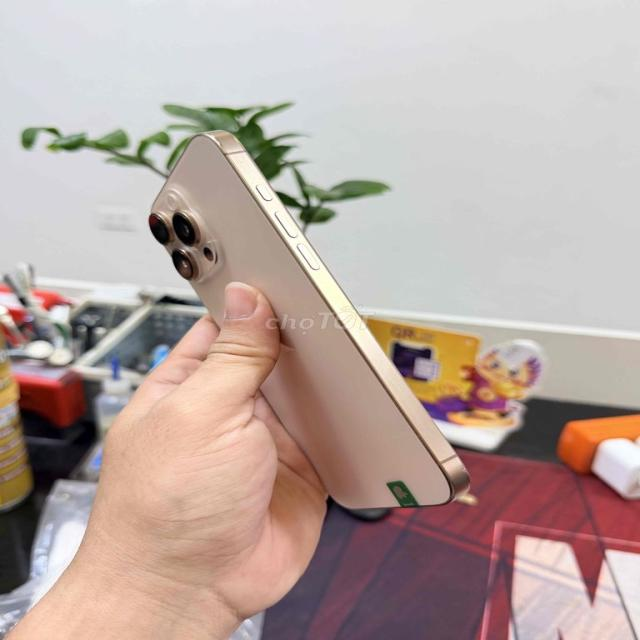gen_16: (148, 131, 468, 508)
